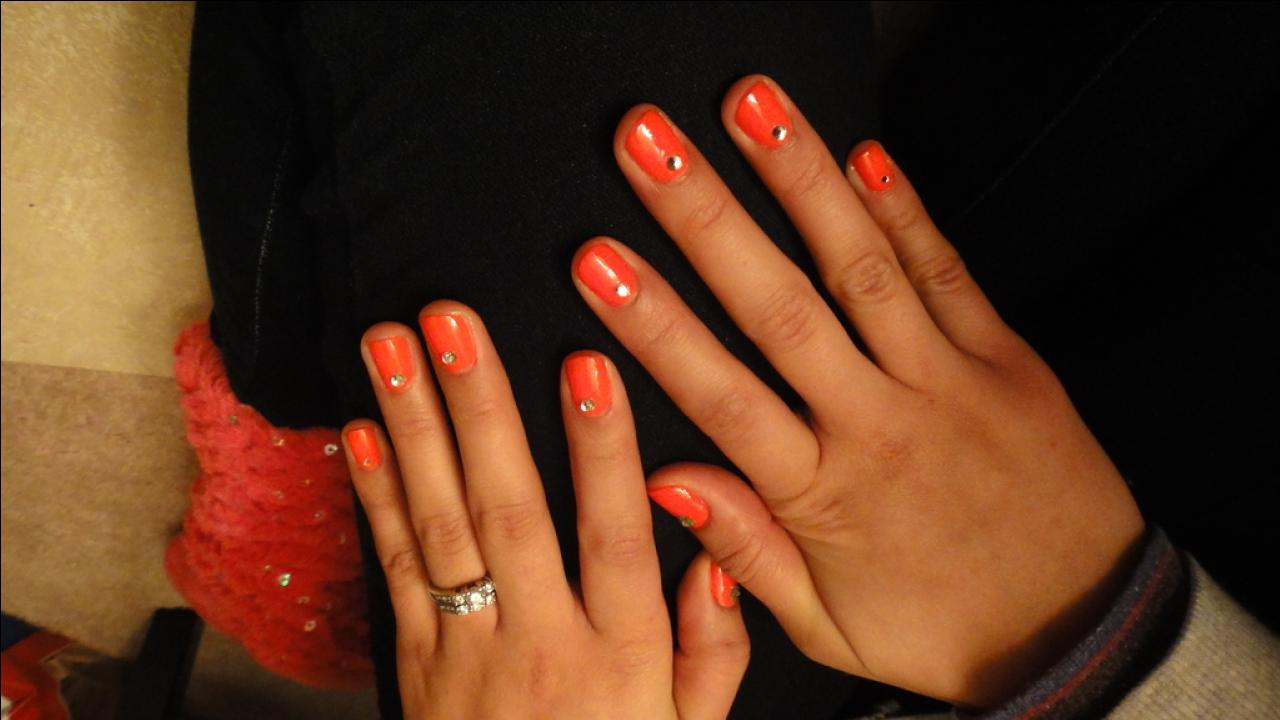ring: (424, 564, 498, 617)
